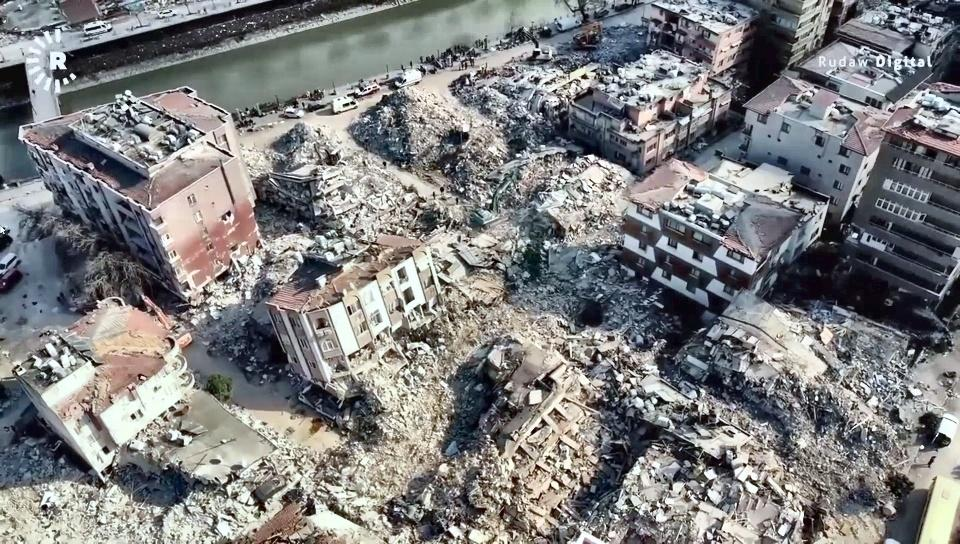kapali: (249, 381, 519, 543)
